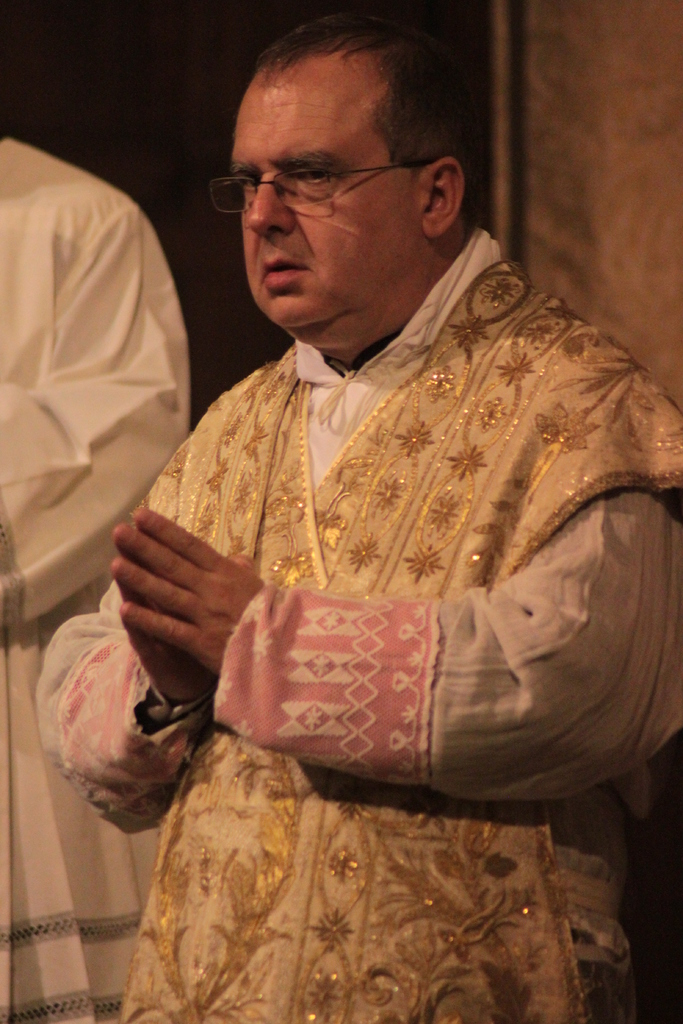Human_hand: (106, 533, 218, 715)
